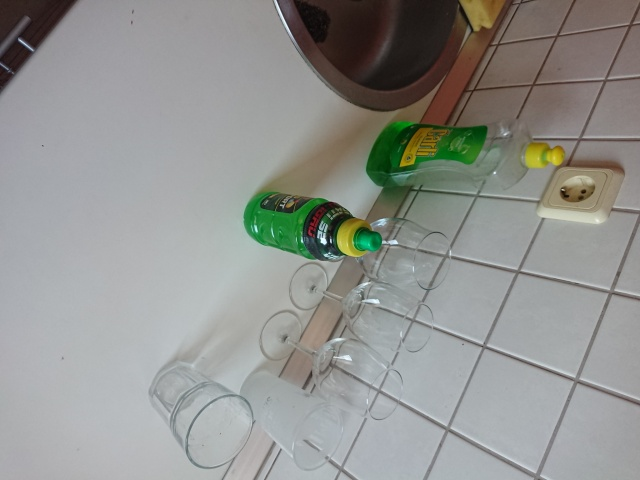Vindi Iso Sport Lemon-Grapefruit 500mL: (240, 188, 385, 265)
